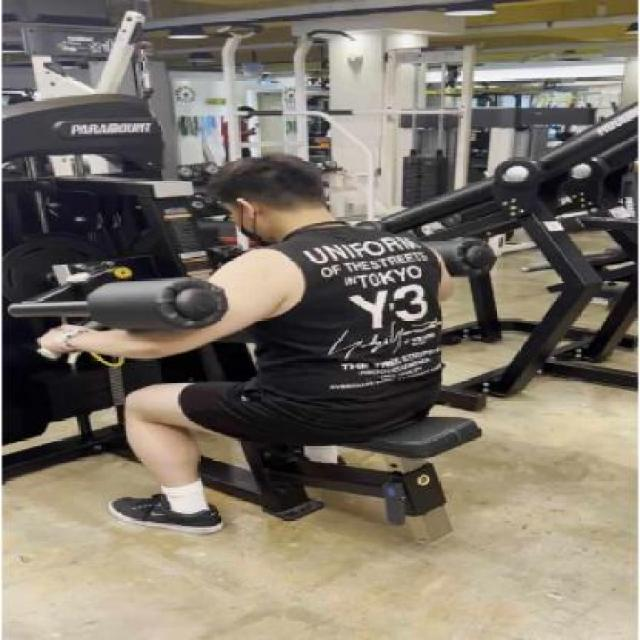lateral raises machine: (2, 236, 504, 544)
